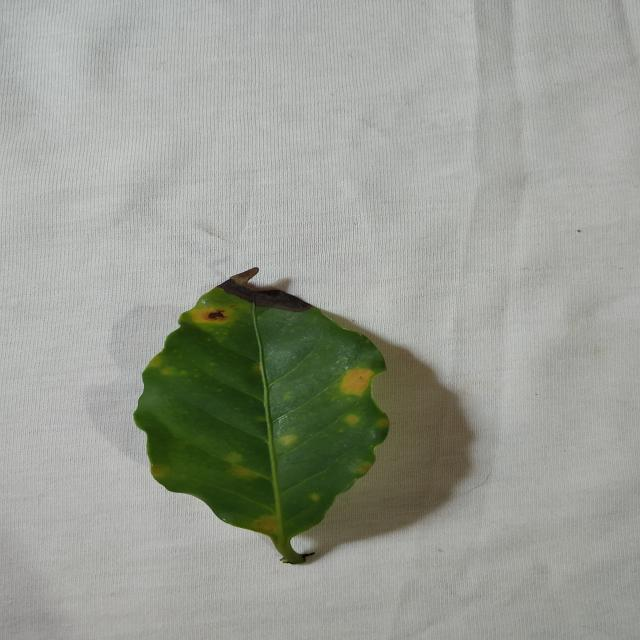Enfermedad-Roya: (133, 270, 391, 568)
